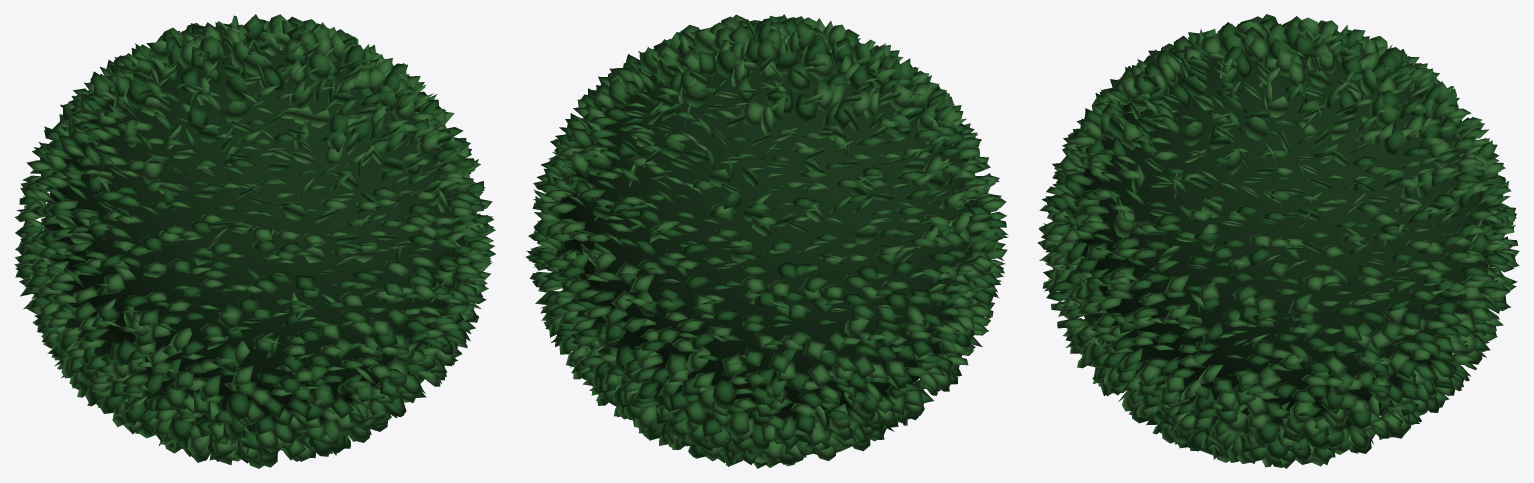
Rendered from Topiary_Ball.fbx.
The picture shows the model from 3 angles, left to right: view 1: azimuth 30°, elevation 25°; view 2: azimuth 150°, elevation 25°; view 3: azimuth 270°, elevation 25°; orthographic projection.
Visible parts, largest first — view 1: Topiary_Ball; view 2: Topiary_Ball; view 3: Topiary_Ball.
Part boxes in pixels (<box>): Topiary_Ball: <box>14,14,495,468</box>; Topiary_Ball: <box>525,14,1008,468</box>; Topiary_Ball: <box>1037,14,1519,468</box>.
Size of the model in its own units: 0.6987 by 0.6497 by 0.6996.
Materials: 4 (4 with a texture image).
